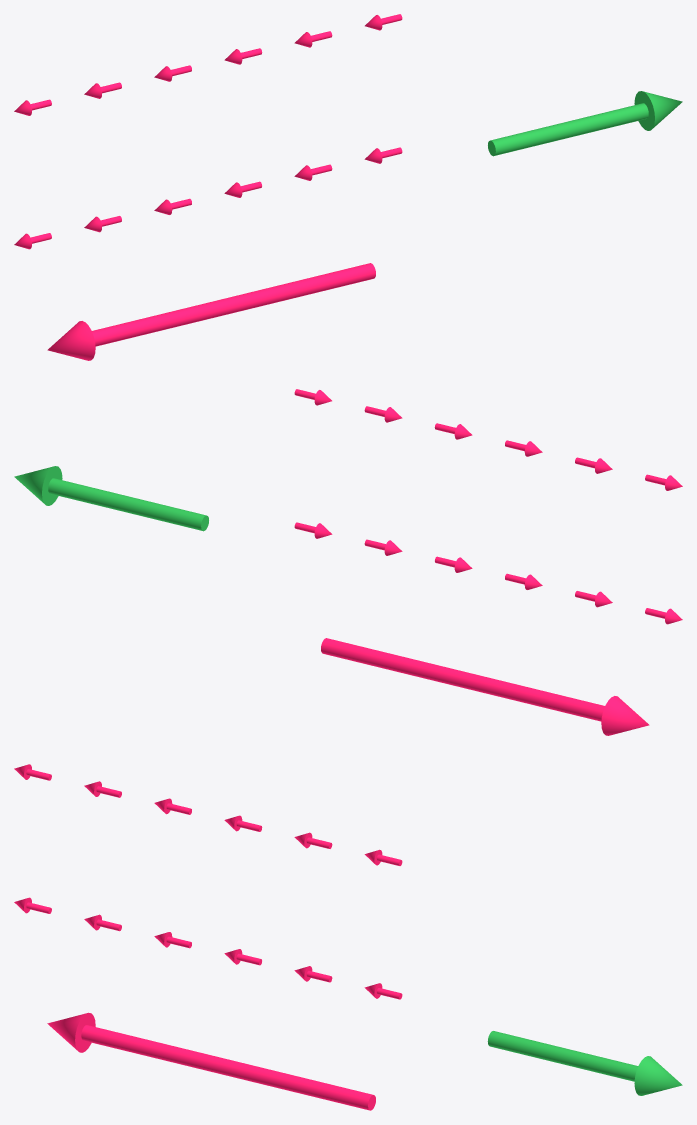
The model's file is horizontal_multistage_pump_thrust.glb.
3 views of the same model, one above another, from view 1: azimuth 30°, elevation 25°; view 2: azimuth 150°, elevation 25°; view 3: azimuth 330°, elevation 25° (orthographic).
Visible parts, largest first — view 1: thrust_arrows, counter_arrows; view 2: thrust_arrows, counter_arrows; view 3: thrust_arrows, counter_arrows.
Boxes of the visible parts, left/top/right/bottom form: thrust_arrows: left=14, top=14, right=402, bottom=360; counter_arrows: left=488, top=91, right=682, bottom=156; thrust_arrows: left=294, top=389, right=682, bottom=735; counter_arrows: left=14, top=466, right=208, bottom=531; thrust_arrows: left=14, top=764, right=402, bottom=1110; counter_arrows: left=487, top=1031, right=682, bottom=1095.
Size of the model in its own units: 1.05 by 0.409 by 0.056.
